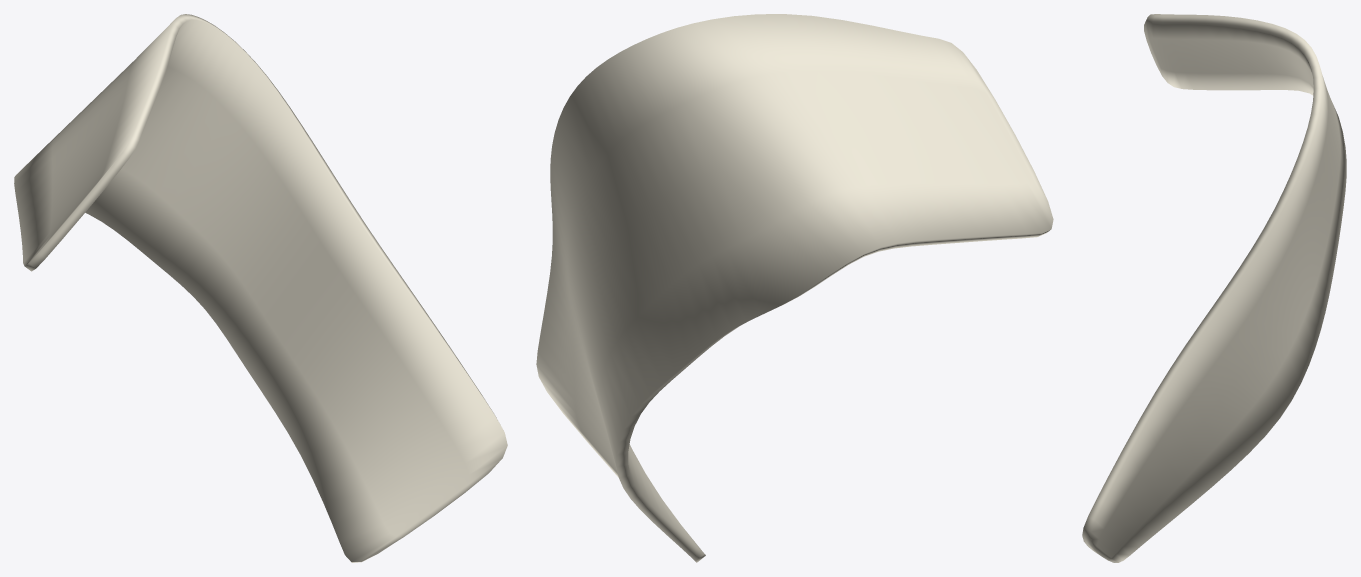
3 renders of one model, left to right at view 1: azimuth 30°, elevation 25°; view 2: azimuth 150°, elevation 25°; view 3: azimuth 270°, elevation 25°, orthographic. The views are drawn at different scales.
Parts seen in each view (by area): view 1: ZA_6657959e34a900db; view 2: ZA_6657959e34a900db; view 3: ZA_6657959e34a900db.
Part boxes in pixels (x1=…): ZA_6657959e34a900db: x1=14, y1=14, x2=507, y2=562; ZA_6657959e34a900db: x1=536, y1=14, x2=1053, y2=562; ZA_6657959e34a900db: x1=1082, y1=14, x2=1346, y2=562.
Bounding box in the file's own units: 0.0274 × 0.03 × 0.0148.
